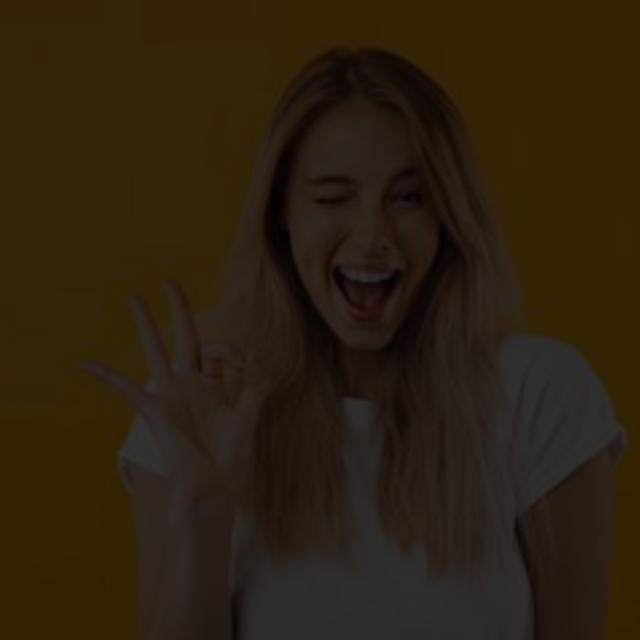Happy: (177, 69, 494, 351)
